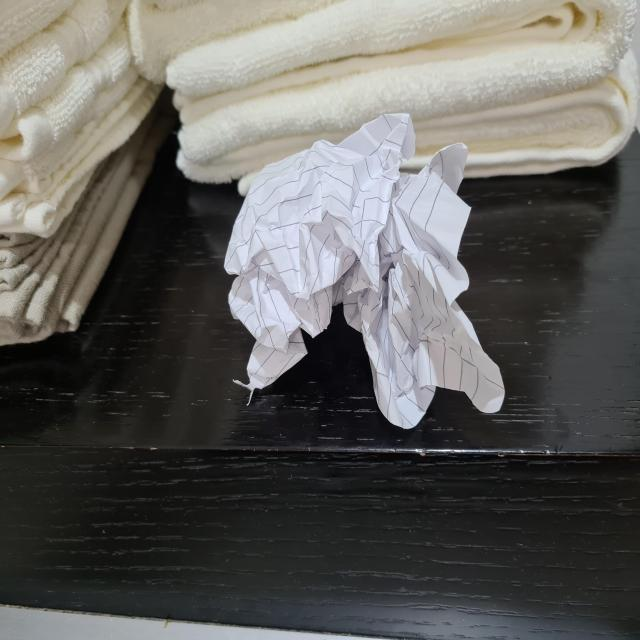cardboard paper: (224, 113, 502, 426)
